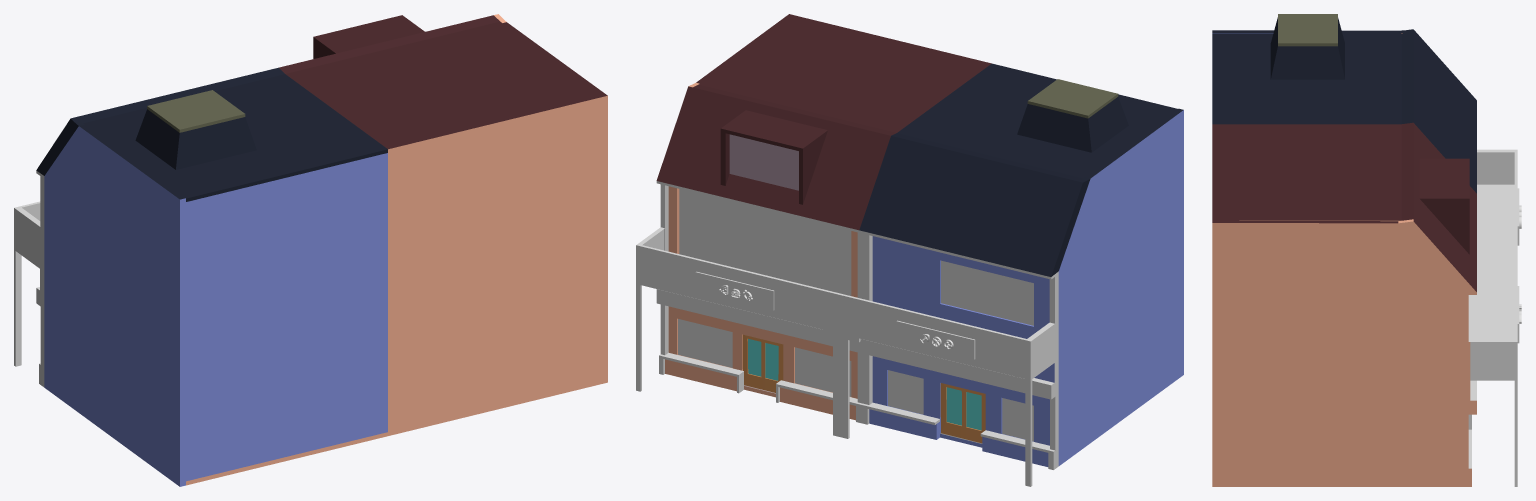
Rendered from FESTIVAL BUILDING 3.fbx.
The picture shows the model from 3 angles, left to right: view 1: azimuth 30°, elevation 25°; view 2: azimuth 150°, elevation 25°; view 3: azimuth 270°, elevation 25°; orthographic projection. The views are drawn at different scales.
Parts seen in each view (by area): view 1: Cube.008; view 2: Cube.008, Cube.034, Cube.021, Cube.020, Cube.018, Cube.019; view 3: Cube.008.
Part boxes in pixels (left/top/right/bottom): Cube.008: left=14, top=14, right=607, bottom=486; Cube.008: left=636, top=14, right=1183, bottom=486; Cube.034: left=678, top=189, right=1033, bottom=441; Cube.021: left=940, top=383, right=985, bottom=443; Cube.020: left=742, top=334, right=783, bottom=392; Cube.018: left=695, top=271, right=774, bottom=310; Cube.019: left=896, top=320, right=975, bottom=359; Cube.008: left=1212, top=14, right=1517, bottom=486.
Size of the model in its own units: 3725 by 2681 by 2536.
